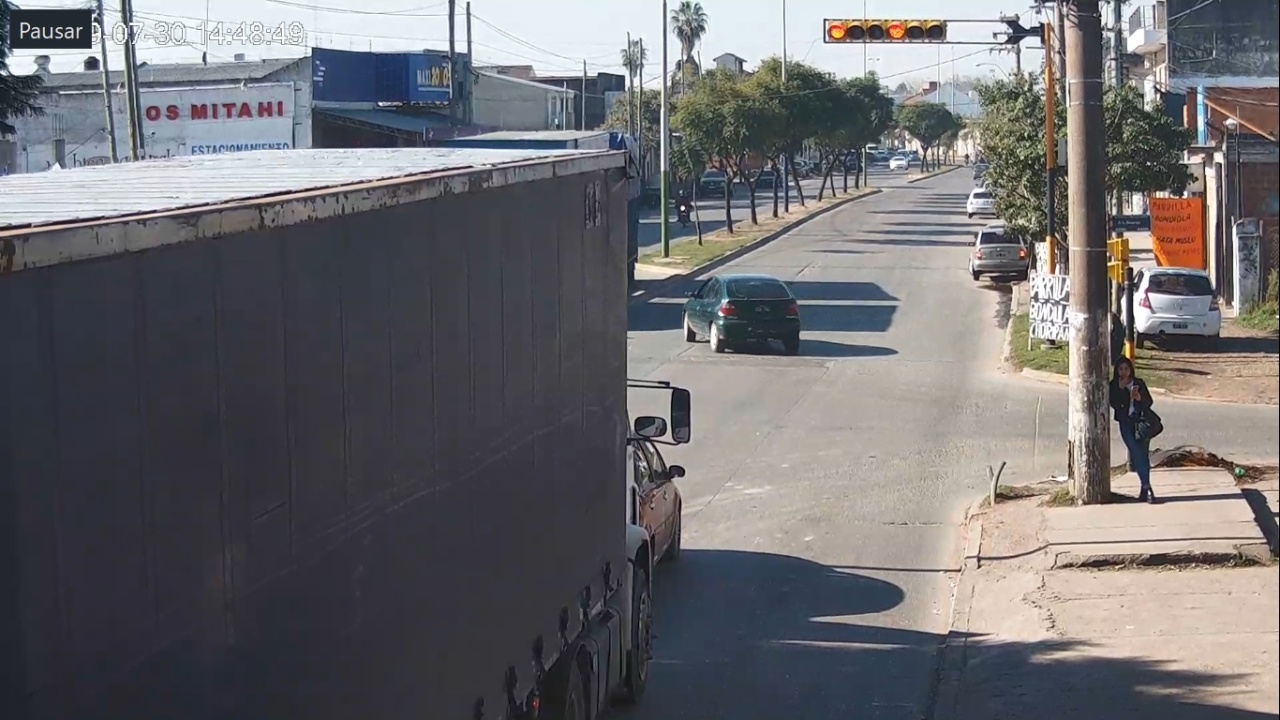car: (683, 273, 801, 352)
traffic light: (826, 19, 947, 43)
truck: (1, 149, 692, 720)
